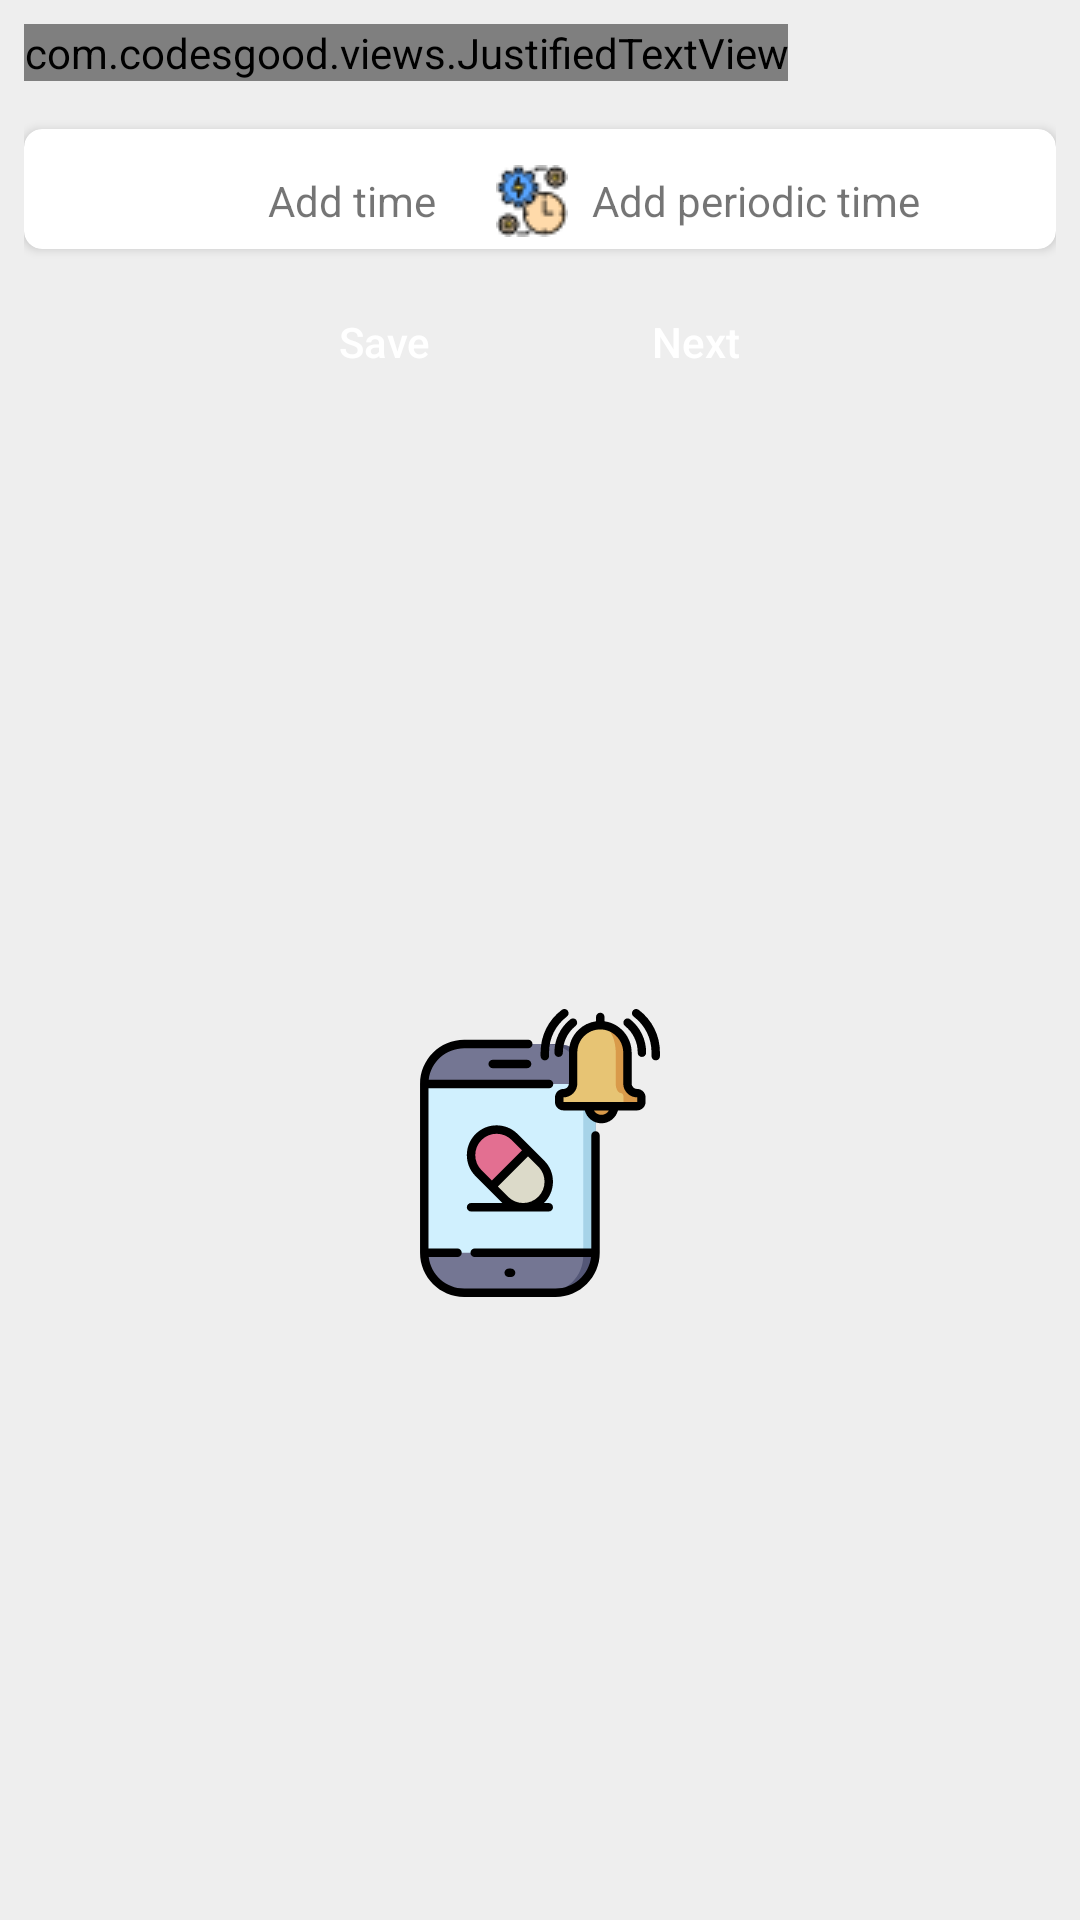

Locate icon controls on the screen. Image size 1080*1920, boxes as [left=x1, top=y1, right=x2, bottom=y2].
reminder: [left=420, top=1009, right=660, bottom=1297]
